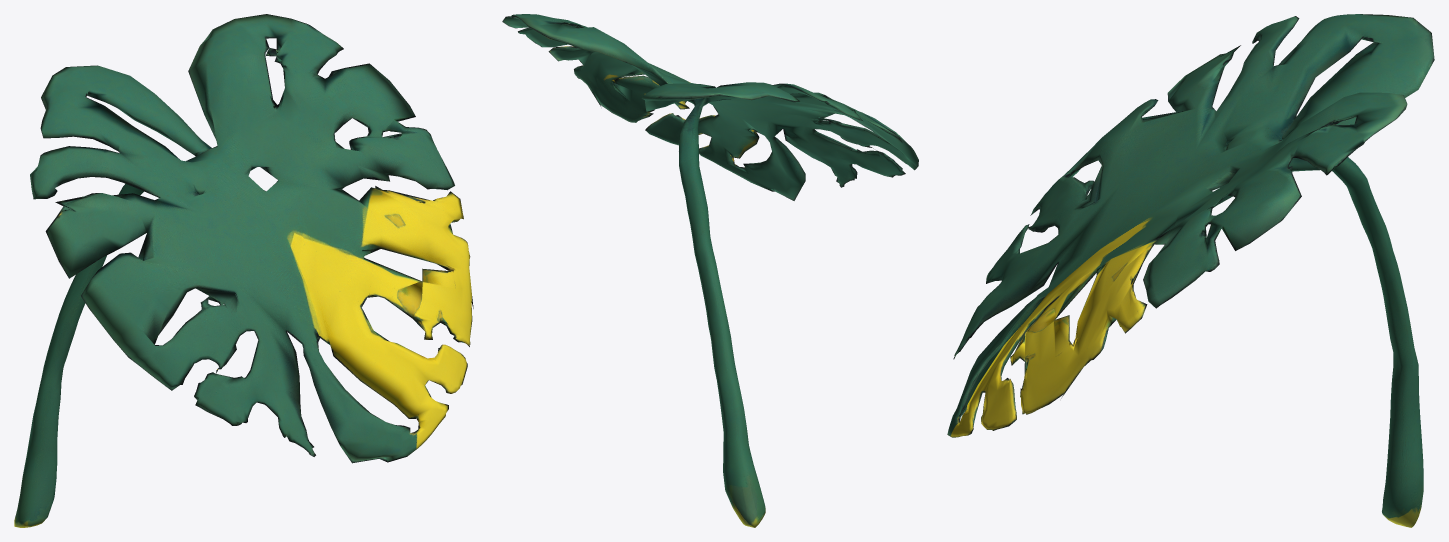
File: mon_green_lemonpatch.glb
The picture shows the model from 3 angles, left to right: view 1: azimuth 30°, elevation 25°; view 2: azimuth 150°, elevation 25°; view 3: azimuth 270°, elevation 25°; orthographic projection. The views are drawn at different scales.
Bounding box in the file's own units: 1.75 × 2 × 1.62.
Materials: 1 (1 with a texture image).
